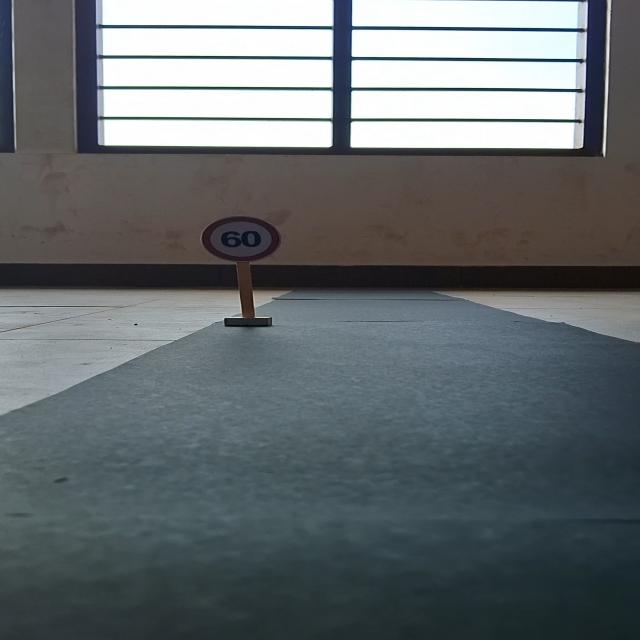Speed60: (195, 213, 282, 263)
